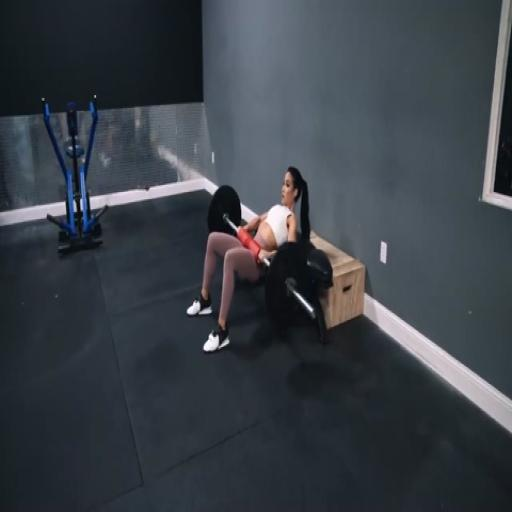exercise: (184, 164, 312, 357)
